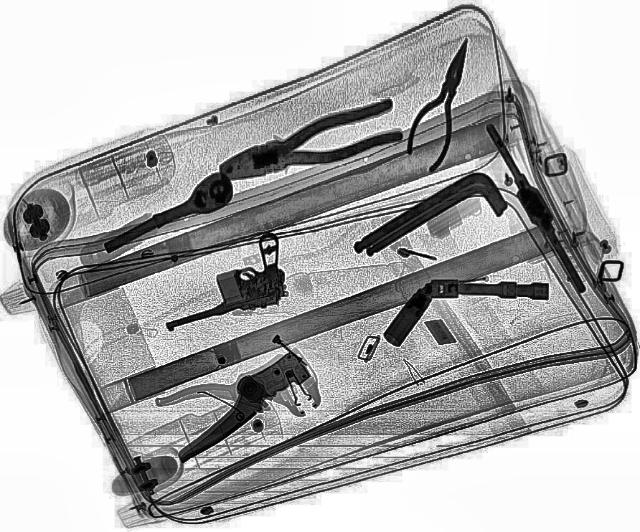Gun: (135, 228, 307, 336)
Pliers: (206, 100, 408, 190), (398, 32, 486, 172)
